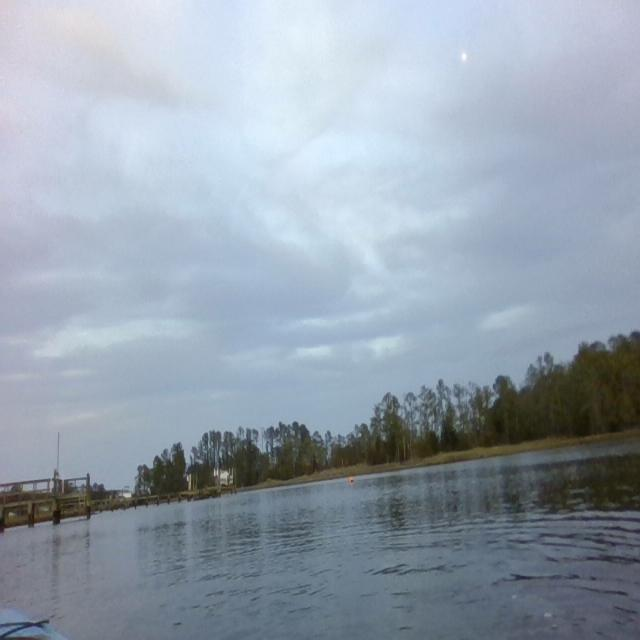Buoy: (347, 470, 356, 489)
